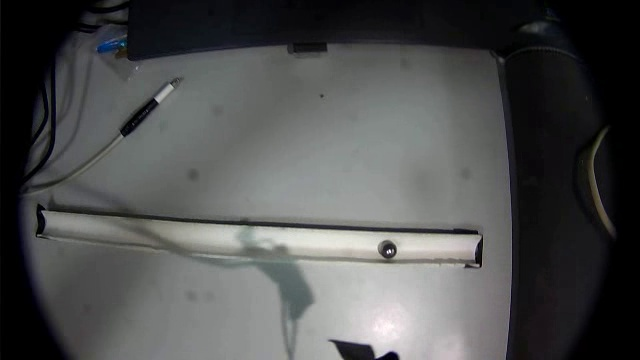gangzhu: (377, 239, 399, 260)
